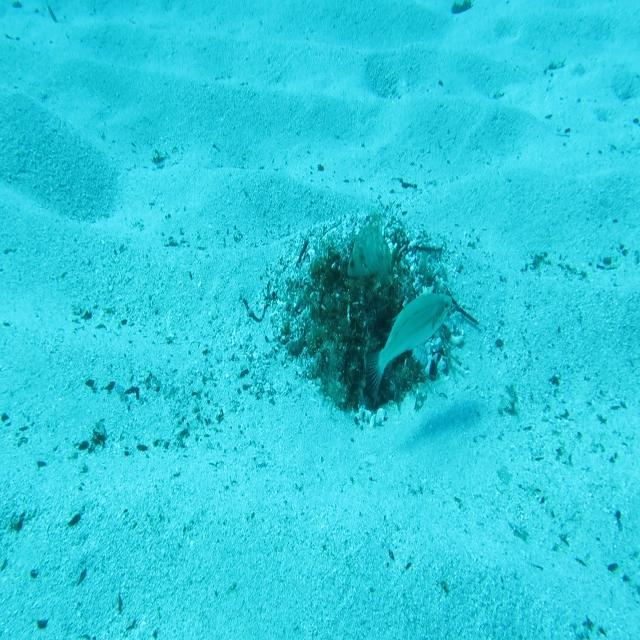INSF: (347, 213, 393, 289)
core_nest: (333, 269, 392, 318)
female: (362, 290, 454, 404)
nest: (262, 202, 475, 442)
vegetation: (447, 0, 478, 17)
